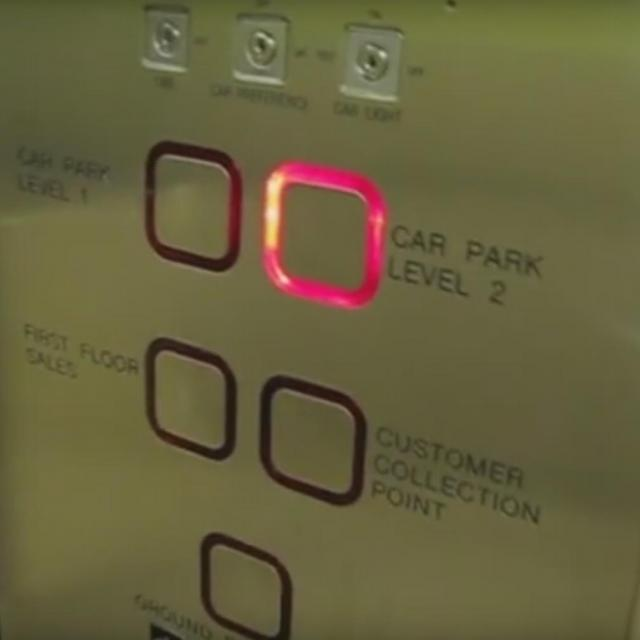empty: (260, 159, 390, 315), (256, 369, 369, 510), (138, 136, 244, 278), (141, 333, 240, 466), (196, 528, 295, 640)
keyhole: (336, 18, 405, 107), (231, 11, 290, 87), (139, 2, 191, 74)
